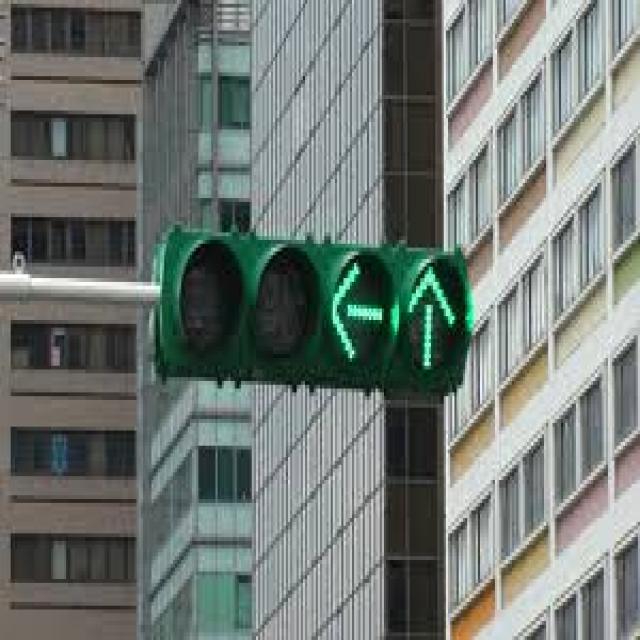green: (412, 248, 474, 382)
